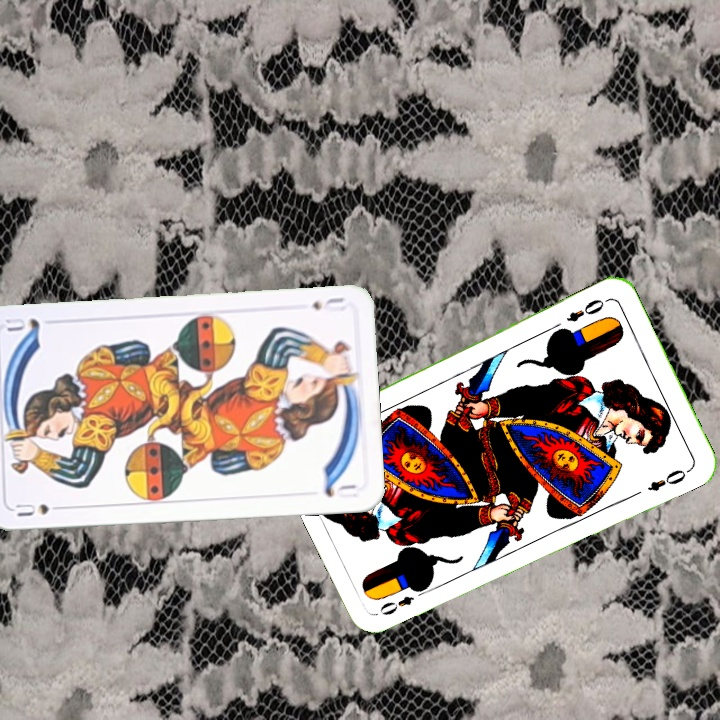EO: (375, 584, 430, 618), (562, 294, 611, 325)
SU: (12, 499, 69, 519), (308, 293, 348, 315)
